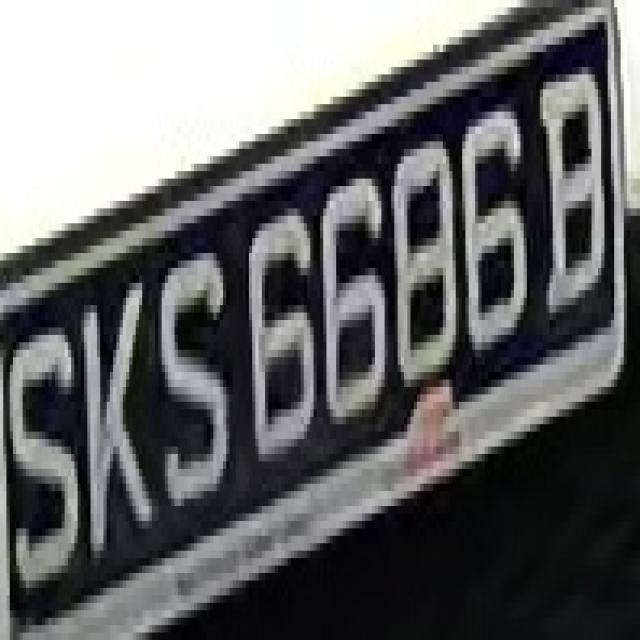6: (242, 186, 320, 461), (313, 156, 388, 439), (459, 90, 527, 394)
8: (384, 126, 466, 416)
B: (536, 45, 611, 320)
K: (78, 260, 158, 573)
S: (149, 246, 236, 521), (13, 290, 78, 610)
